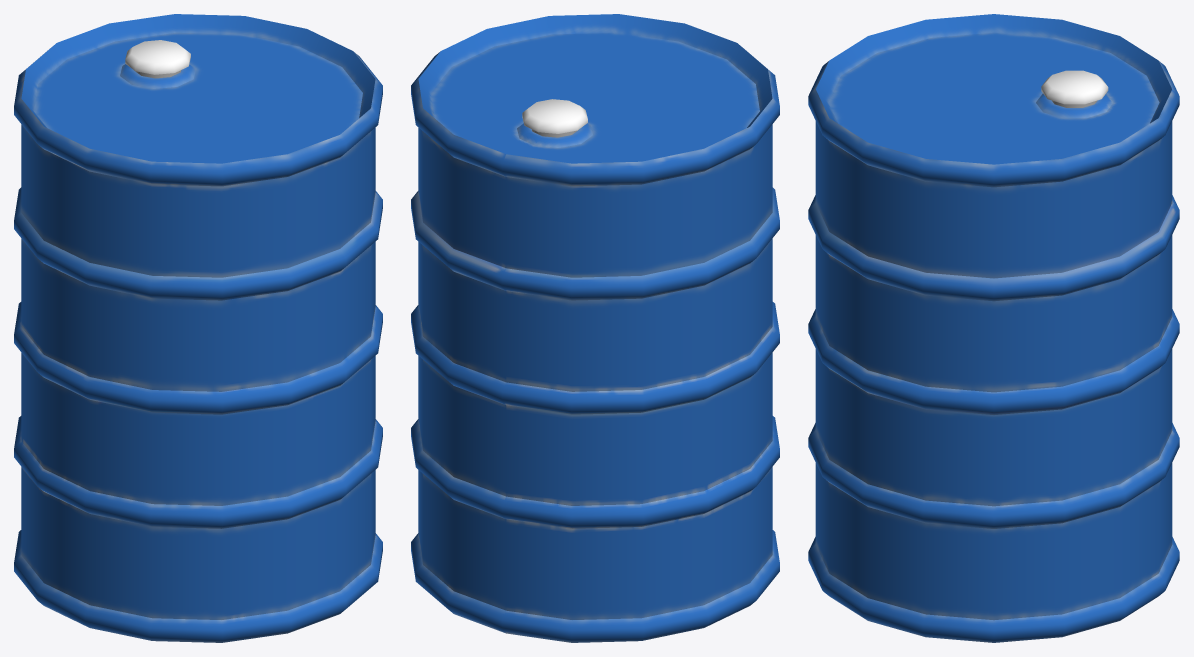
File: barrel.fbx
The picture shows the model from 3 angles, left to right: view 1: azimuth 30°, elevation 25°; view 2: azimuth 150°, elevation 25°; view 3: azimuth 270°, elevation 25°; orthographic projection.
Parts seen in each view (by area): view 1: Cylinder; view 2: Cylinder; view 3: Cylinder.
Part boxes in pixels (box(x1,y1,x2,y2)): Cylinder: box(14, 14, 382, 642); Cylinder: box(411, 14, 779, 642); Cylinder: box(808, 14, 1179, 642).
Size of the model in its own units: 128 by 185 by 128.
